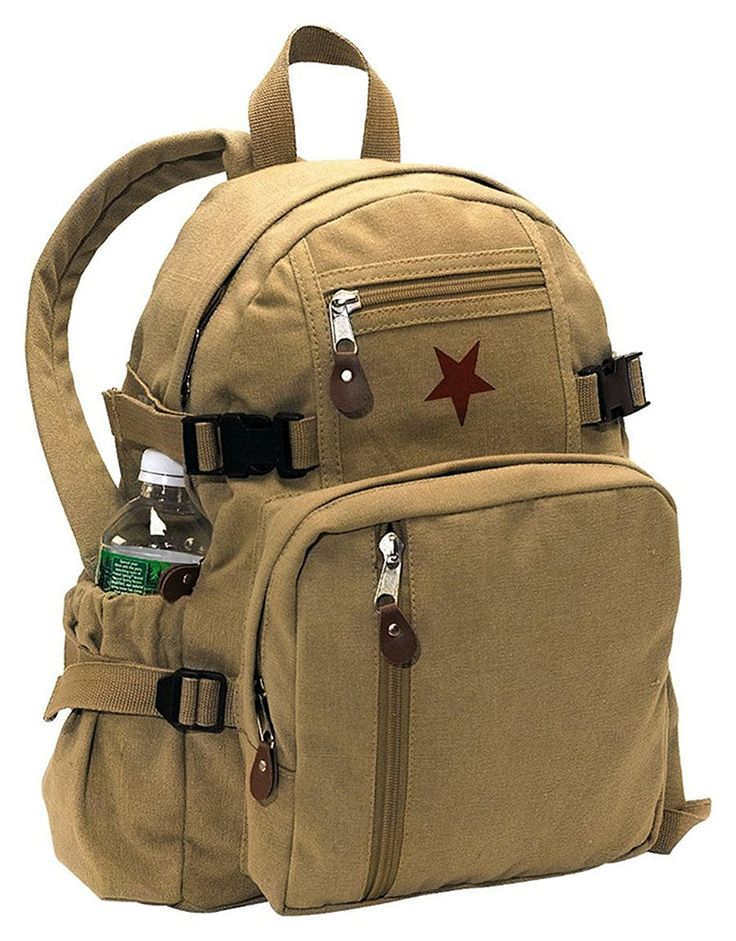nylon: (25, 26, 711, 915)
